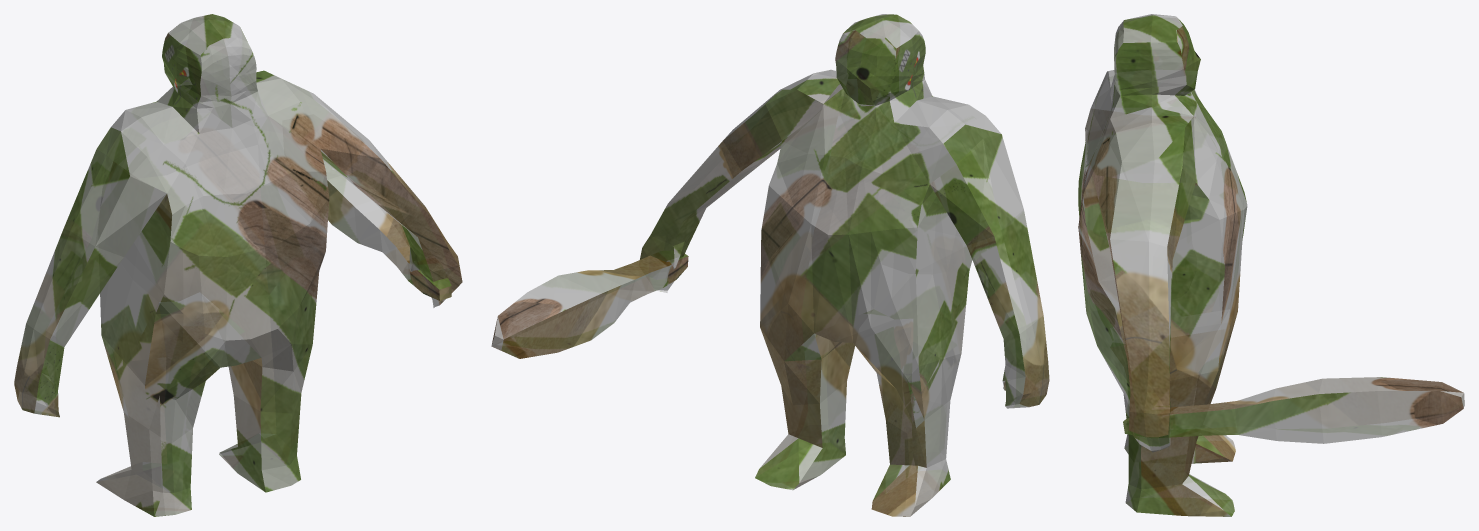
Rendered from Enemigo226.obj.
3 renders of one model, left to right at view 1: azimuth 30°, elevation 25°; view 2: azimuth 150°, elevation 25°; view 3: azimuth 270°, elevation 25°, orthographic. The views are drawn at different scales.
Visible parts, largest first — view 1: Cube; view 2: Cube; view 3: Cube.
Boxes of the visible parts, x1,y1,x2,y2 form: Cube: (14, 14, 462, 516); Cube: (491, 14, 1049, 516); Cube: (1078, 14, 1464, 516).
Size of the model in its own units: 2.59 by 2.71 by 2.05.
Materials: 1 (1 with a texture image).
